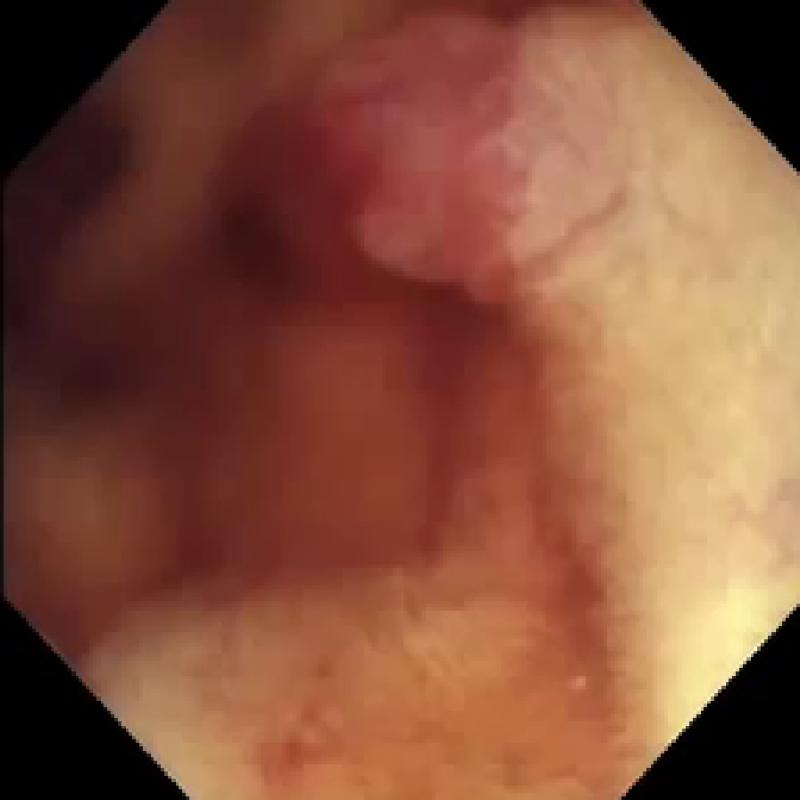bleeding: (11, 57, 496, 654)
